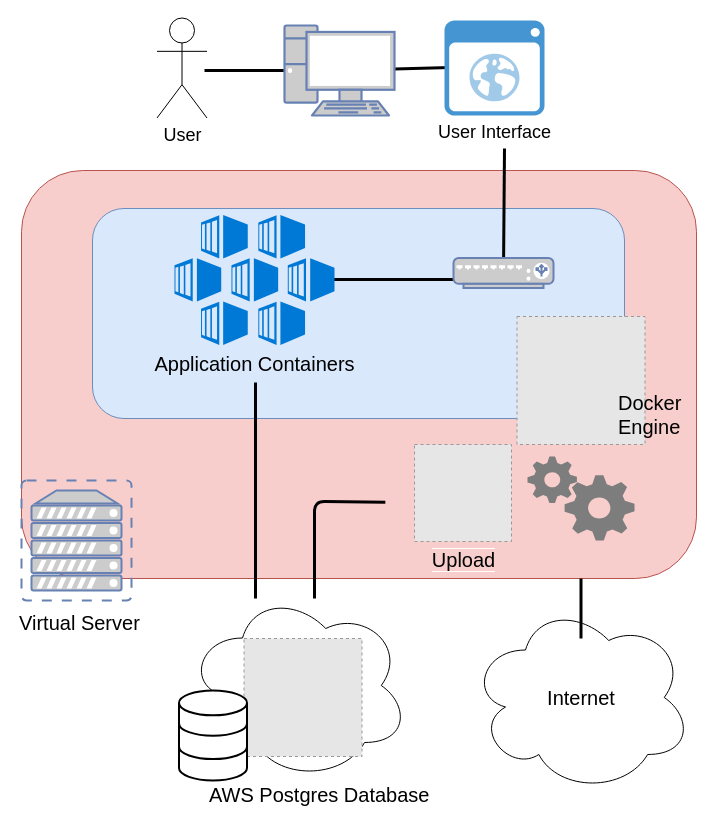
Some shapes in this 714 by 824 pixel diagram are drawn without their labels. Grey dashed boxes stand in for pictures. Each missing label, with the centre of its shape:
Load Balancer: point 503,272
Processing: point 580,498
User PC: point 339,70
